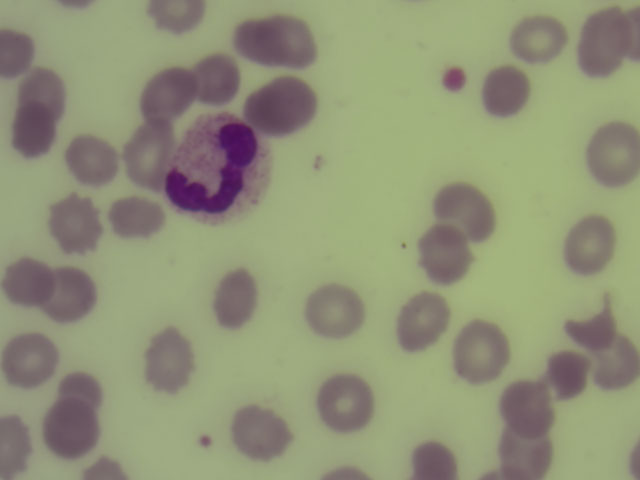Platelets: (440, 67, 468, 92), (201, 436, 212, 448)
RBC: (449, 319, 515, 384), (236, 20, 314, 71), (579, 3, 629, 78), (146, 320, 195, 396), (121, 116, 172, 189), (442, 180, 502, 242), (304, 279, 366, 338), (398, 288, 449, 352), (235, 405, 291, 461), (250, 85, 313, 133), (321, 373, 373, 431), (496, 429, 555, 480), (567, 215, 613, 280), (143, 66, 196, 122), (5, 335, 58, 389), (426, 227, 474, 284), (593, 124, 640, 182), (51, 196, 102, 249), (49, 273, 102, 323), (70, 135, 120, 187), (482, 65, 530, 119), (593, 331, 640, 386), (50, 403, 98, 454), (511, 18, 564, 62), (503, 379, 546, 433), (196, 56, 245, 103), (220, 271, 261, 327), (111, 198, 165, 239), (569, 300, 620, 343), (146, 5, 214, 37), (548, 346, 585, 402), (15, 104, 53, 158), (22, 71, 70, 112), (7, 259, 50, 304), (1, 416, 30, 479), (59, 370, 103, 410), (411, 443, 458, 480), (1, 32, 34, 75), (86, 460, 123, 480), (325, 467, 365, 480)
WBC: (177, 116, 270, 224)
